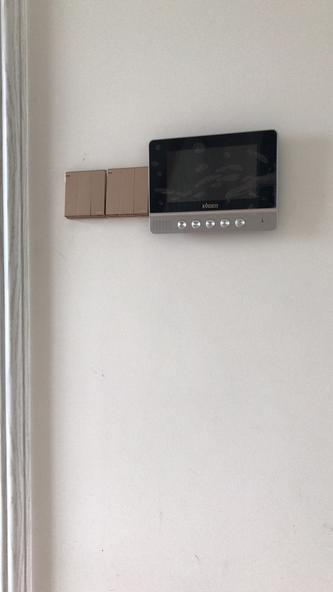switch: (134, 167, 150, 216), (118, 169, 134, 215), (65, 171, 79, 216), (105, 169, 119, 214), (92, 169, 105, 217), (79, 171, 92, 216)
